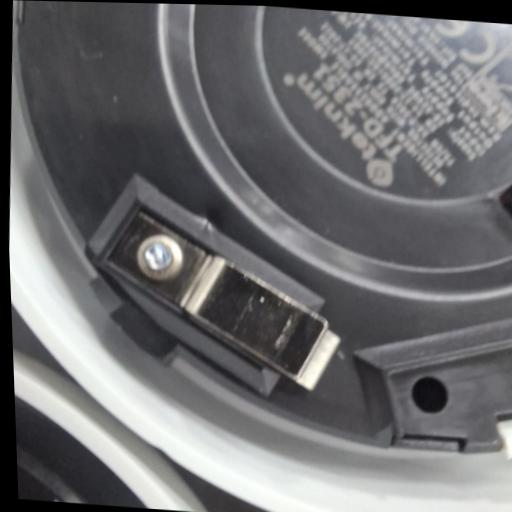yayli: (92, 201, 345, 394)
